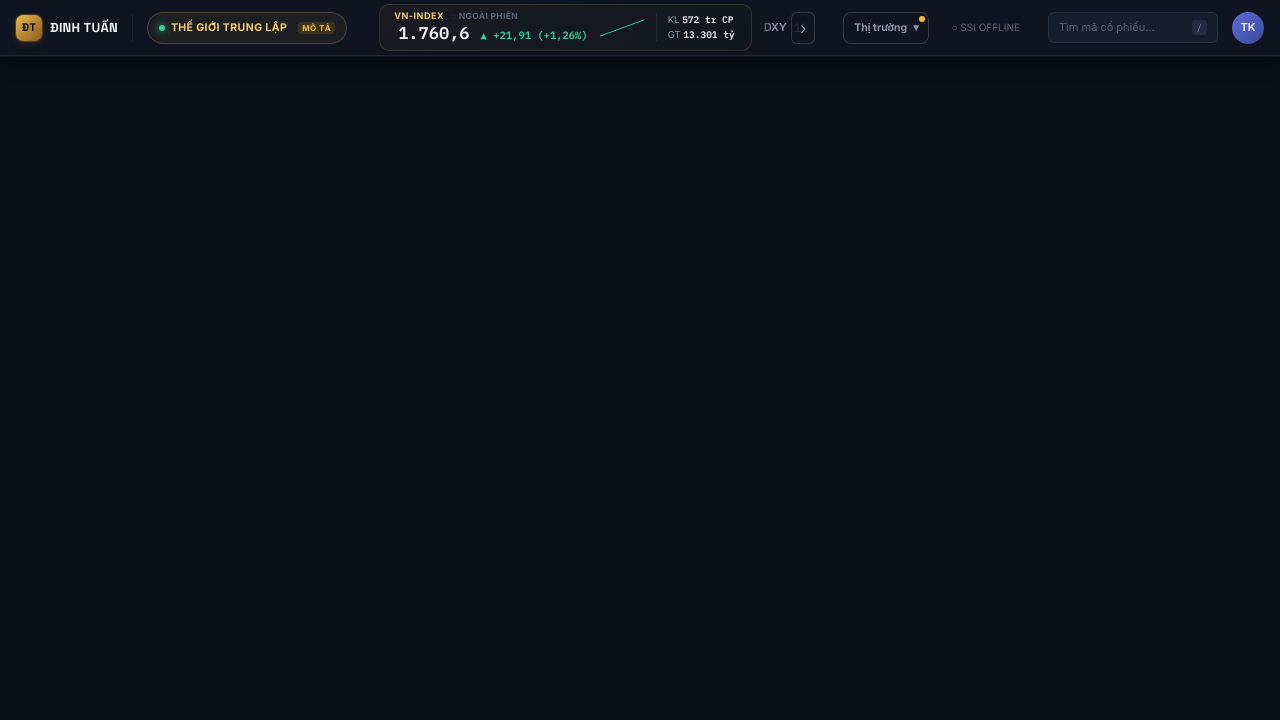
it: TopBar (TOPBAR T1–T4) › "Thị trường ▾" mở panel có độ rộng, phiên, vĩ mô, thanh khoản (không ẩn mất tính năng ở màn hình hẹp)
Click the button "Thị trường ▾": (886, 28) [843,12,929,44]
(page scrolled)
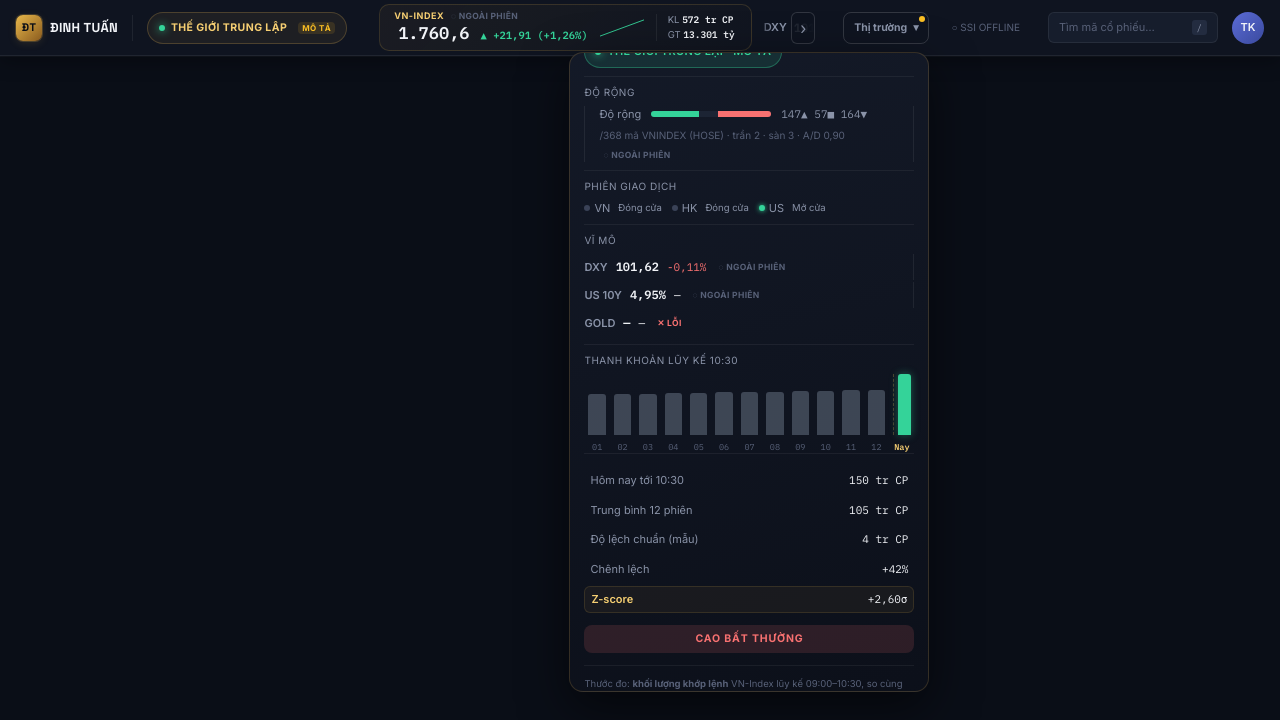
Check: the element with test id "tb-details" shows "Độ rộng", box [584,86,635,98]
Check: the element with test id "tb-details" shows "Phiên giao dịch", box [584,180,677,192]
Check: the element with test id "tb-details" shows "Vĩ mô", box [584,234,616,246]
